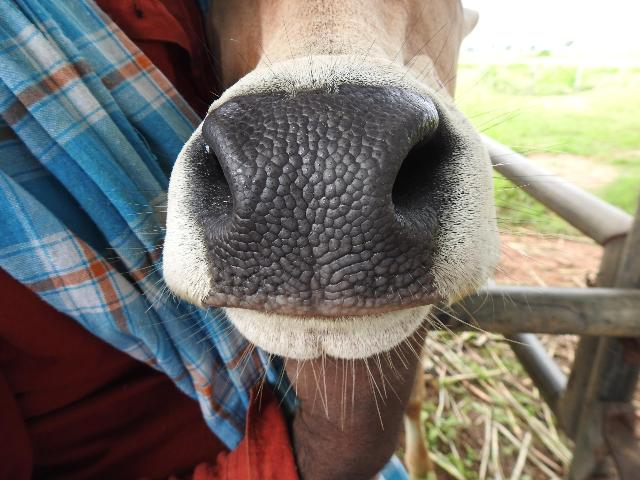Muzzle: (218, 104, 396, 292)
